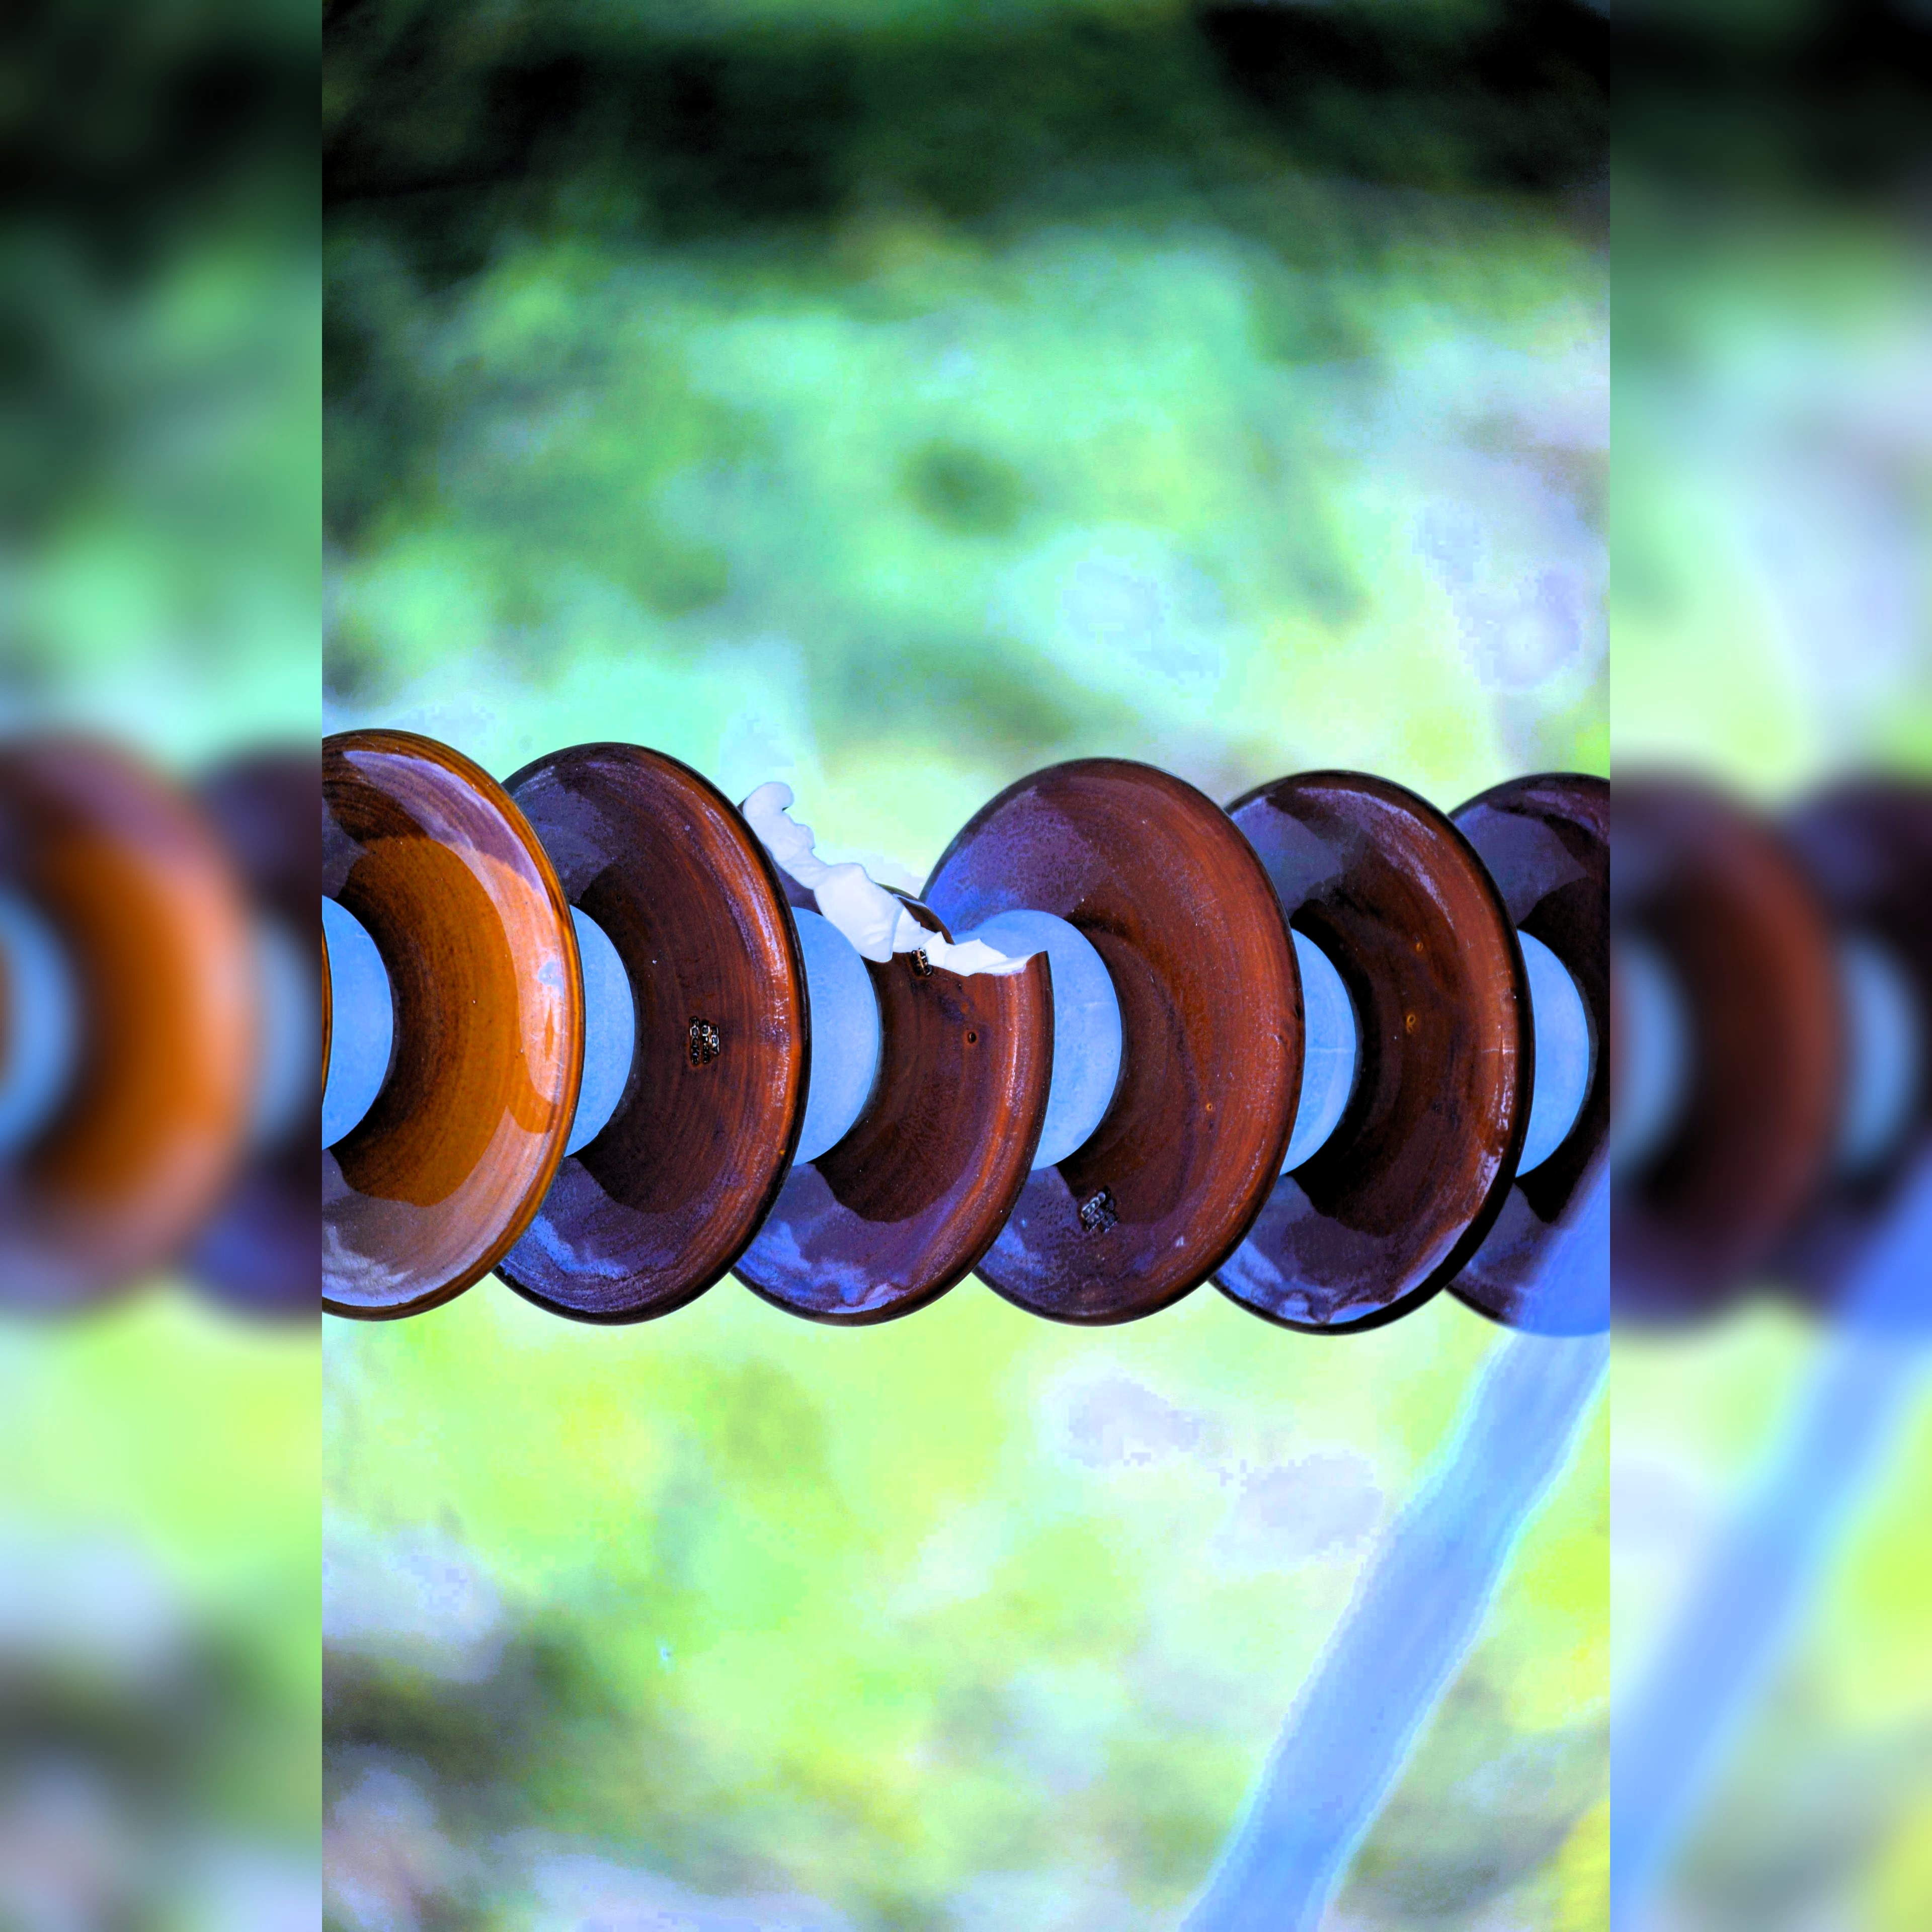insulator breakage: (729, 752, 1067, 1343)
